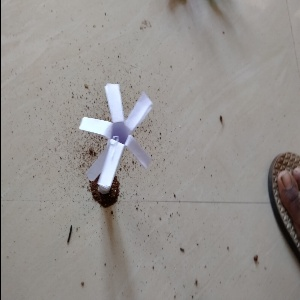weed: (72, 78, 159, 190)
